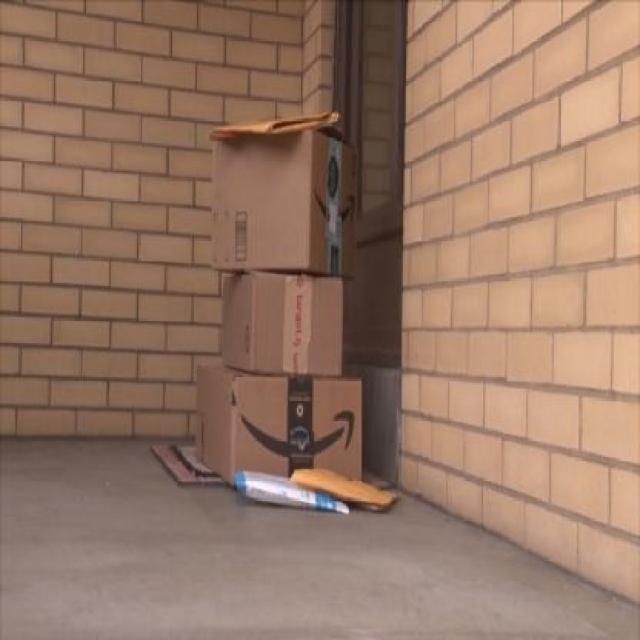box: (209, 120, 352, 280), (195, 363, 358, 484), (221, 268, 343, 376)
